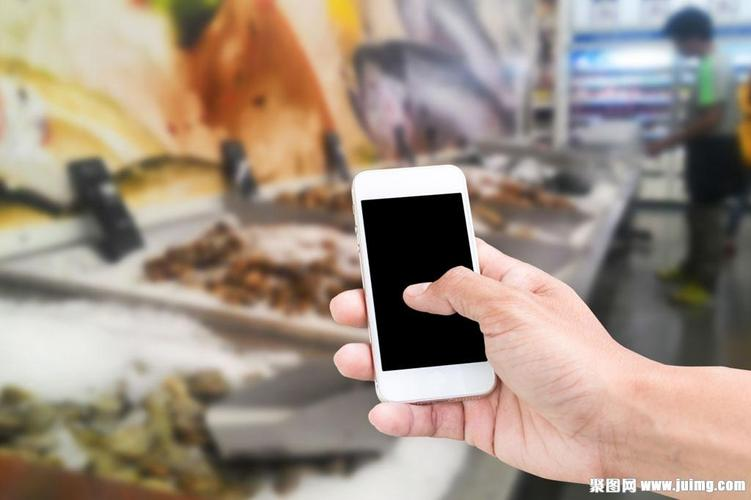reading: (322, 161, 646, 493)
